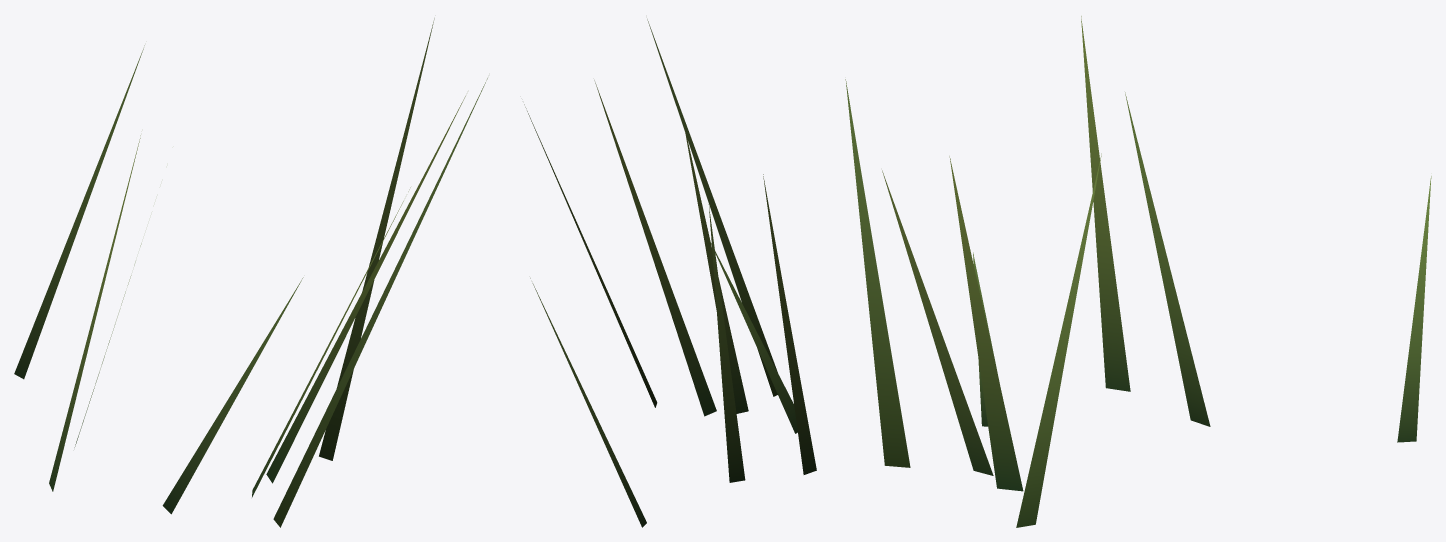
File: seagrass-a.lod2.glb
3 renders of one model, left to right at view 1: azimuth 30°, elevation 25°; view 2: azimuth 150°, elevation 25°; view 3: azimuth 270°, elevation 25°, orthographic. The views are drawn at different scales.
Size of the model in its own units: 0.6395 by 0.6785 by 0.7187.
